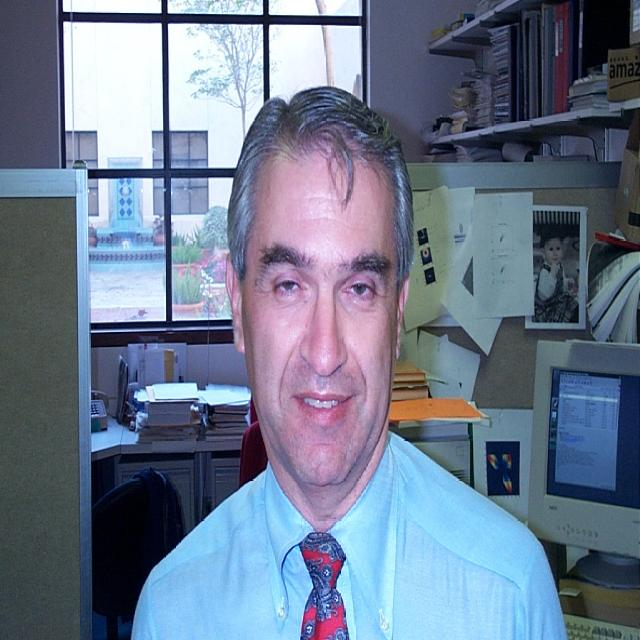sem_oculos: (225, 234, 418, 331)
